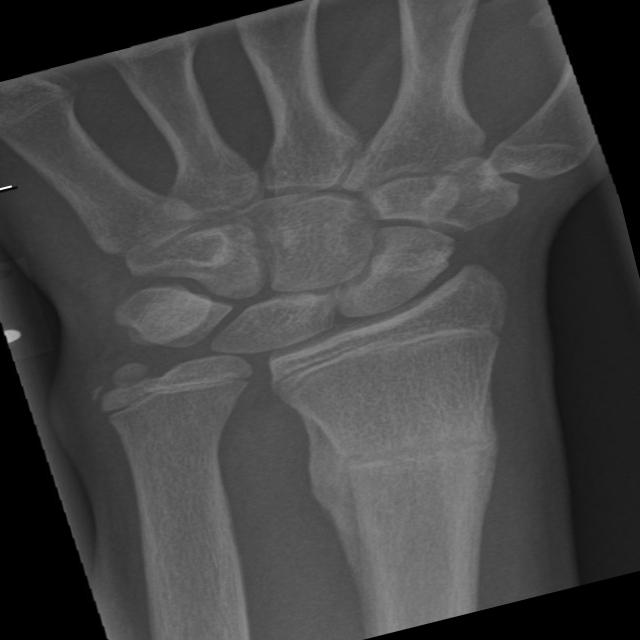fracture: (249, 289, 536, 412), (299, 387, 542, 517), (82, 346, 277, 443)
